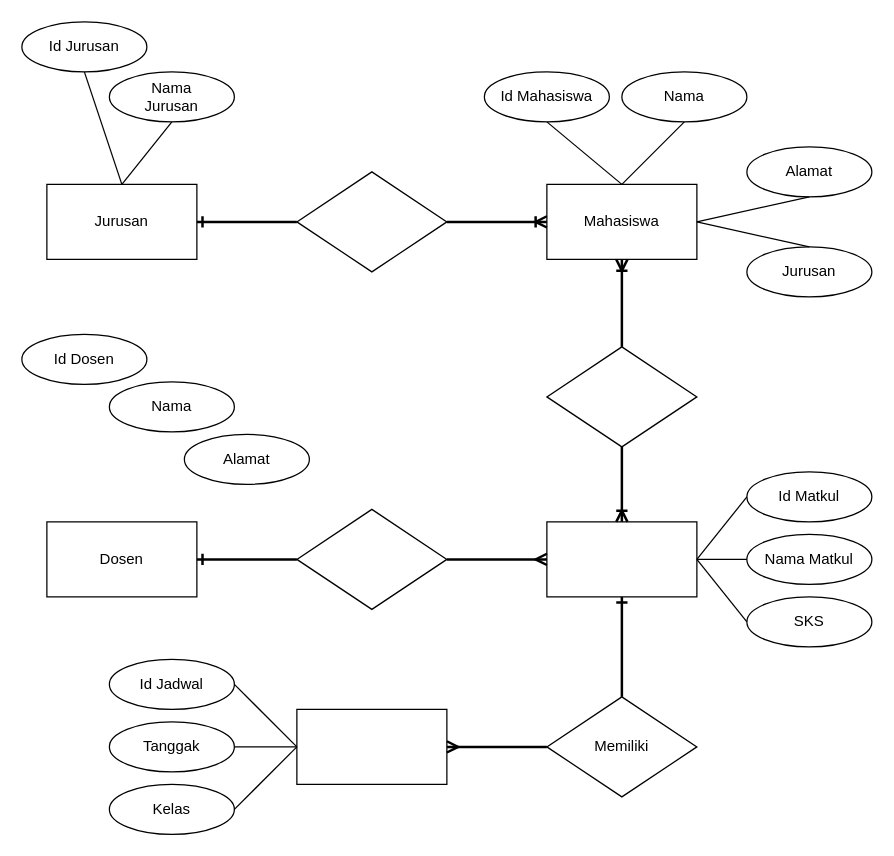
This 894x856 diagram has some shape labels left out. Each missing label, with the centre of its shape:
"Jadwal" belongs at point 371,746.
"Mata Kuliah" belongs at point 621,559.
"Mengajar" belongs at point 371,558.
"Mengambil" belongs at point 621,396.
"Punya" belongs at point 371,221.
